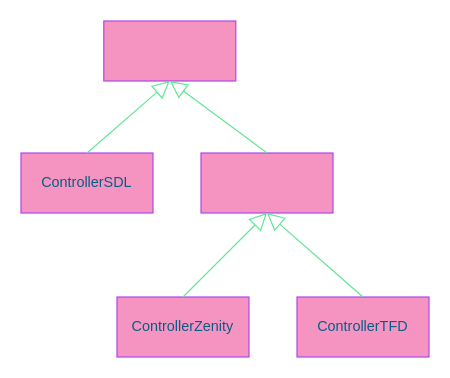
Some shapes in this 450 by 378 pixel diagram are drawn without their labels. Each missing label, with the centre of its shape:
"Controller" goes at point 169,50.
"ControllerCLI" goes at point 266,182.
